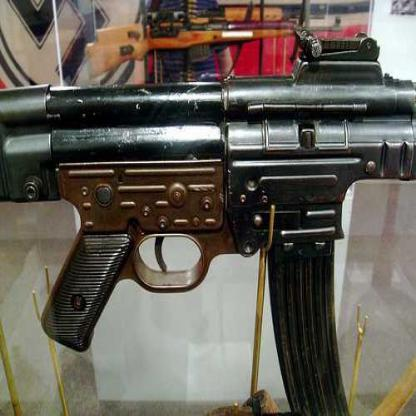rifle: (5, 25, 415, 415)
